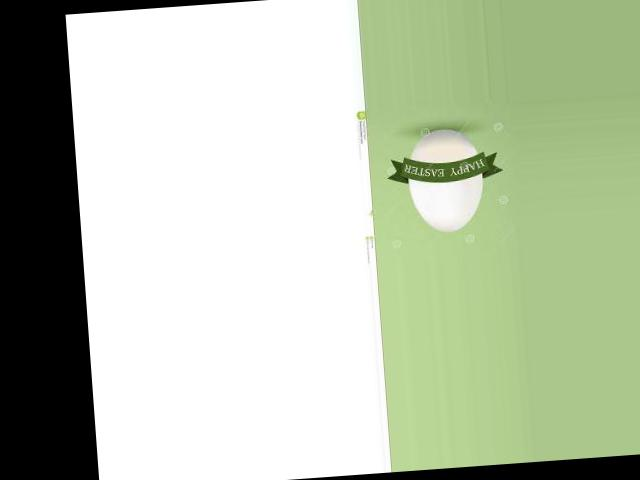egg: (404, 126, 485, 233)
